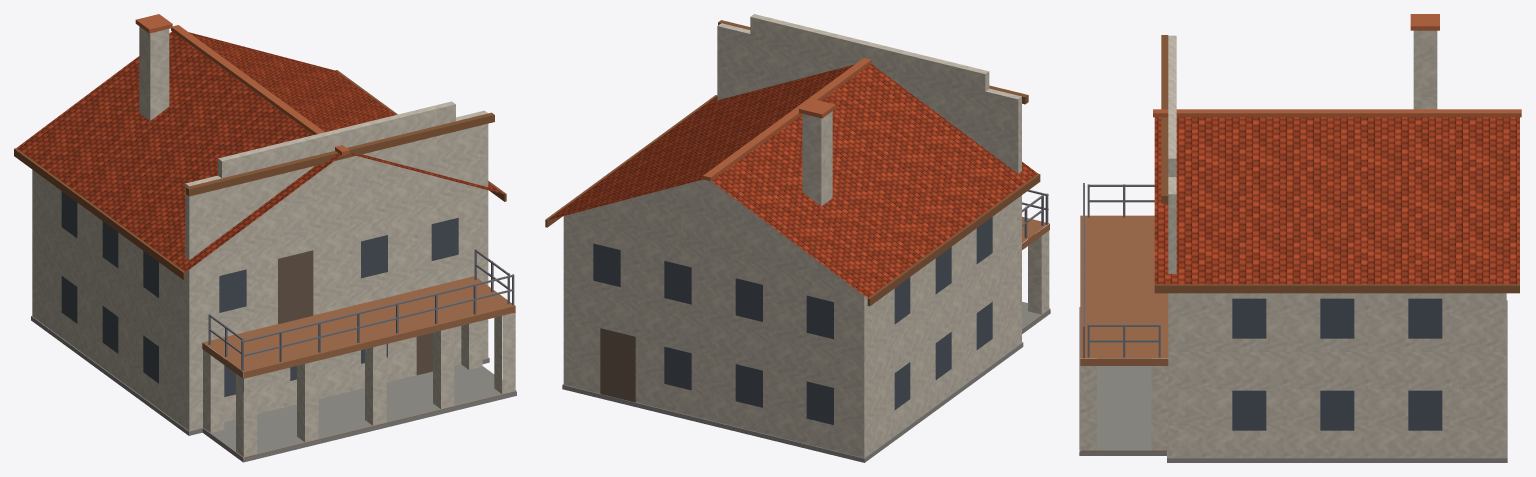
The model's file is cr-mission-house.zfix-v22.lod1.glb.
3 renders of one model, left to right at view 1: azimuth 30°, elevation 25°; view 2: azimuth 150°, elevation 25°; view 3: azimuth 270°, elevation 25°, orthographic. The views are drawn at different scales.
Parts seen in each view (by area): view 1: cr-mission-house; view 2: cr-mission-house; view 3: cr-mission-house.
Part boxes in pixels (x1=…): cr-mission-house: x1=14, y1=14, x2=516, y2=462; cr-mission-house: x1=545, y1=14, x2=1050, y2=462; cr-mission-house: x1=1079, y1=14, x2=1521, y2=462.
Bounding box in the file's own units: 11.88 × 10.76 × 13.08.
3 materials, 2 textured.
